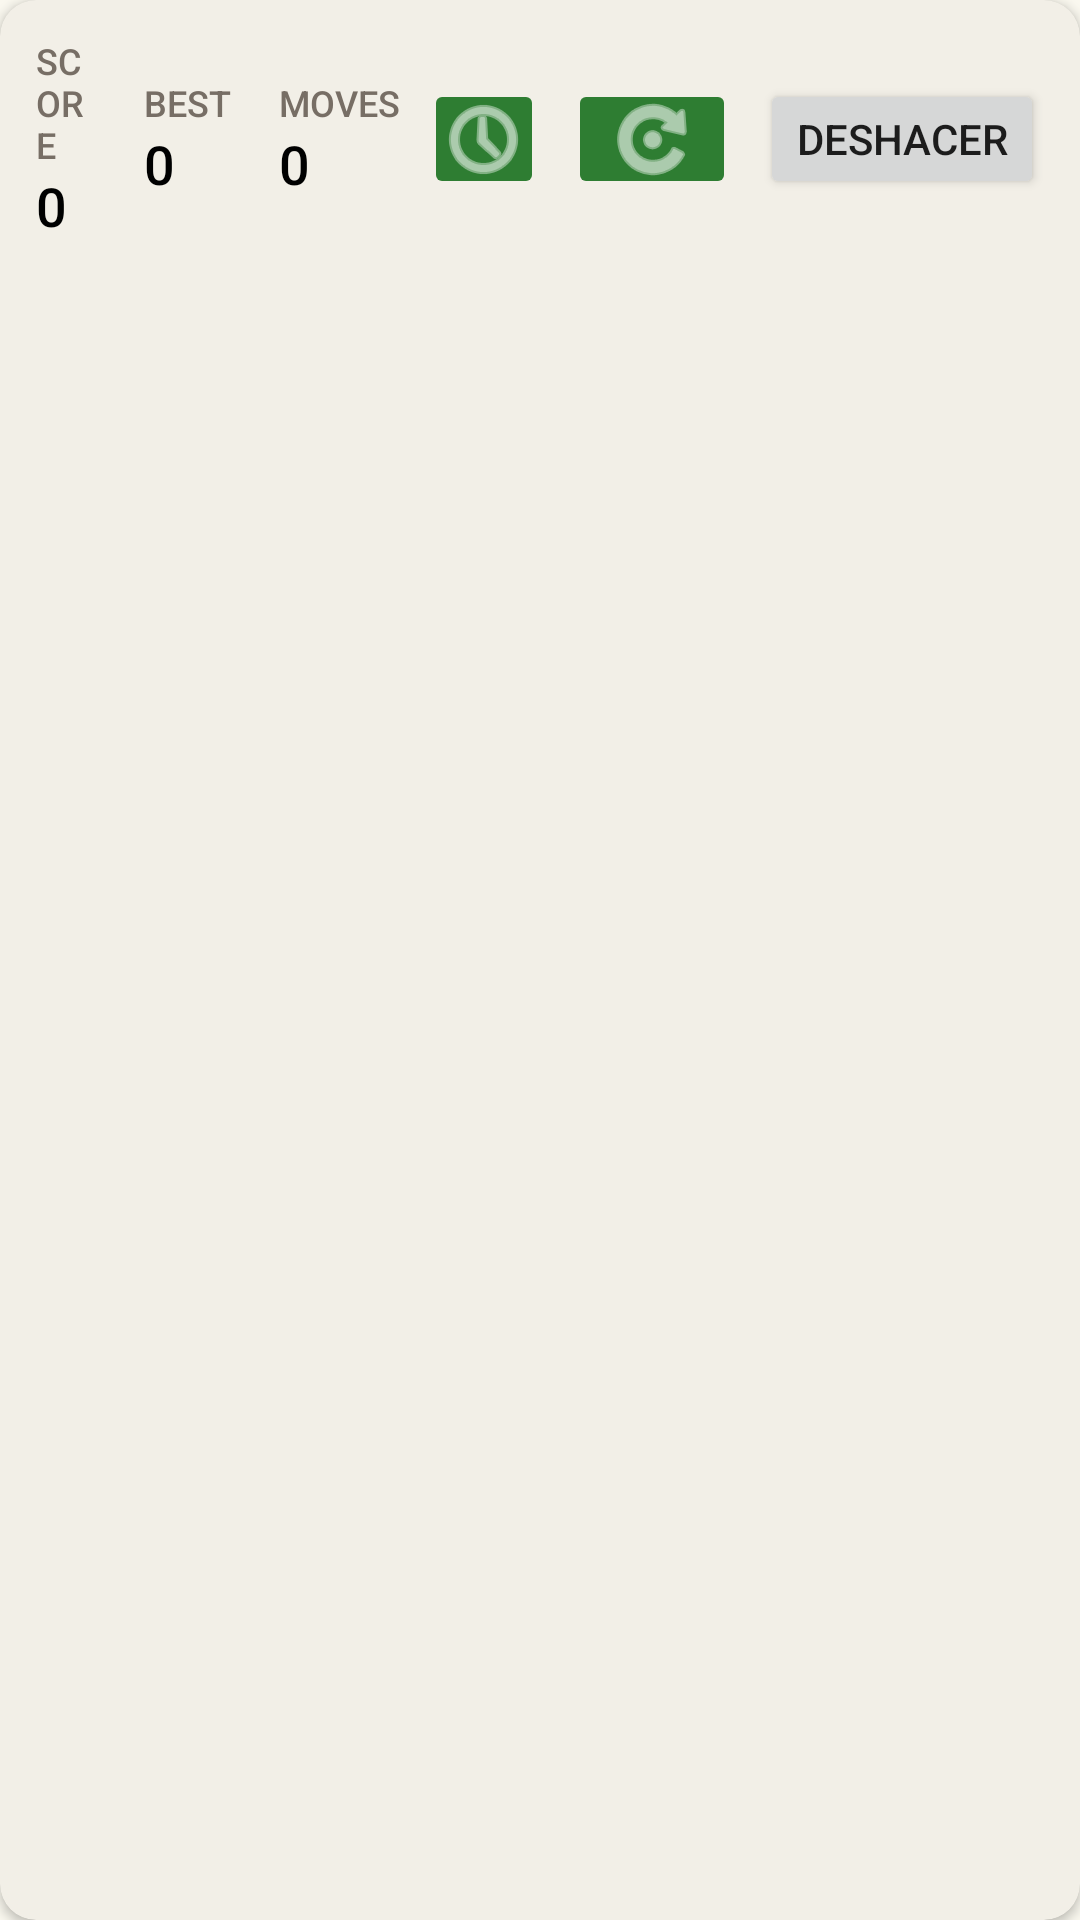

Icon click points for this 1080×1920 phone screenshot, format (x,y):
Reiniciar: (652,139)
Última partida: (484,139)
